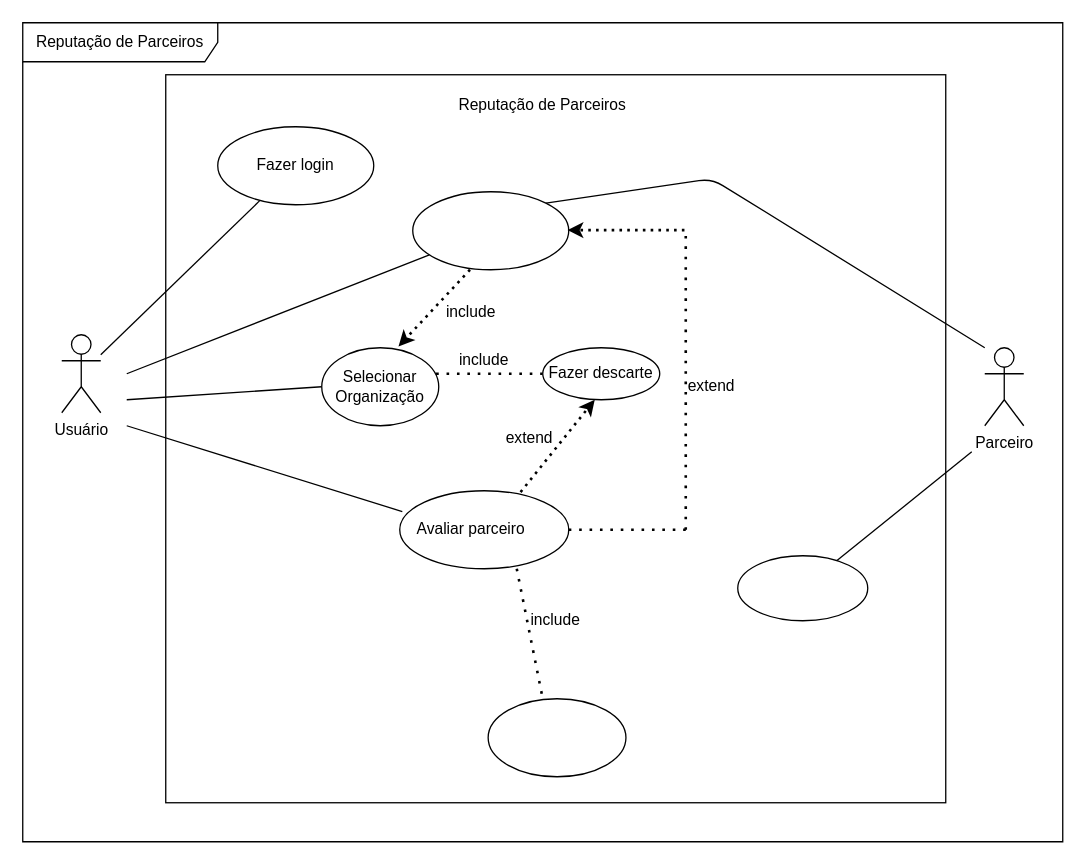
This 1086x864 diagram has some shape labels left out. Here are the shapes that lost their labels. From the top down, the box of each, then its label:
(411, 190, 569, 270): Entrar em contato com parceiros
(736, 554, 868, 621): Receber avaliação
(487, 697, 626, 777): Identificar Parceiro
